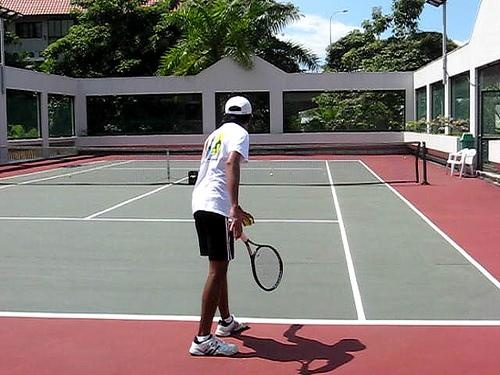person: (182, 93, 258, 359)
